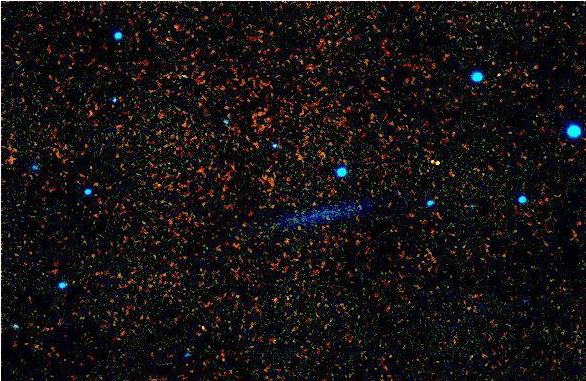star: (420, 152, 450, 182)
